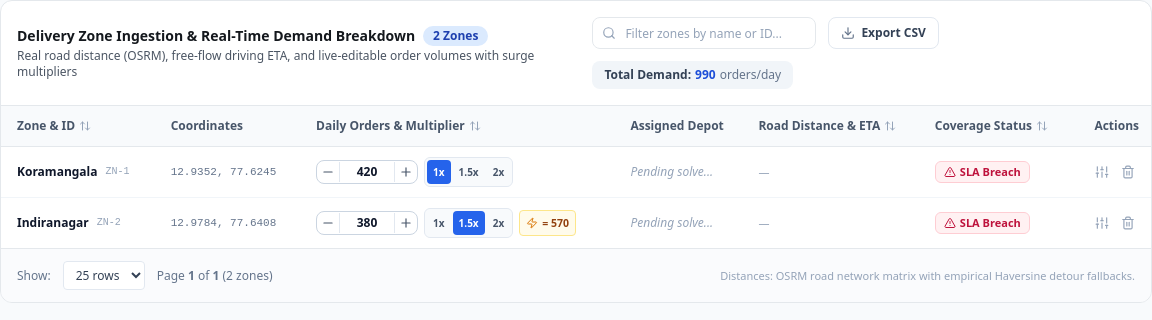
it: ZoneDemandTable › filters zones using search input
Type "Kora" into the field with placeholder "Filter zones by name or ID...". click: [704, 33]
box: top-left (592, 17), bottom-right (816, 49)
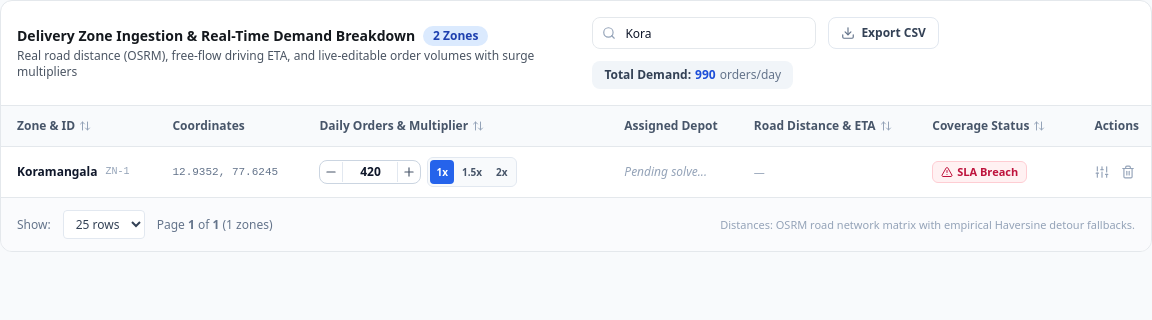
expect the button "Koramangala" is shown: met, box top-left (17, 164), bottom-right (98, 180)
expect the button "Indiranagar" is gone: met
